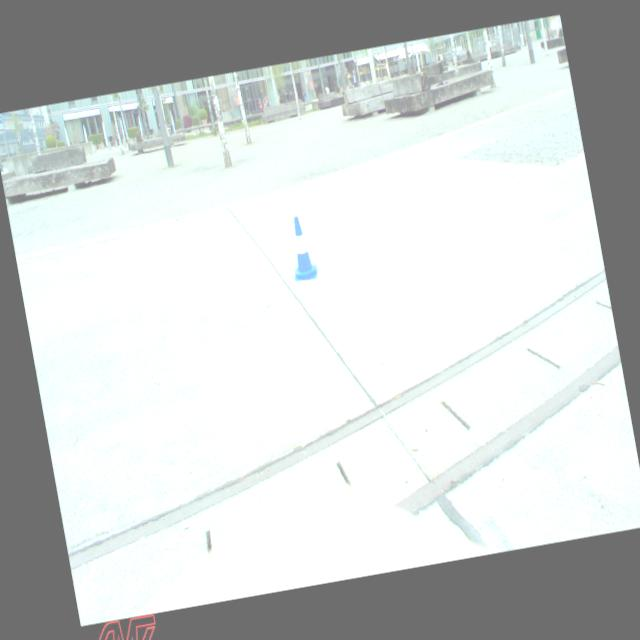blue_cone: (282, 212, 321, 284)
